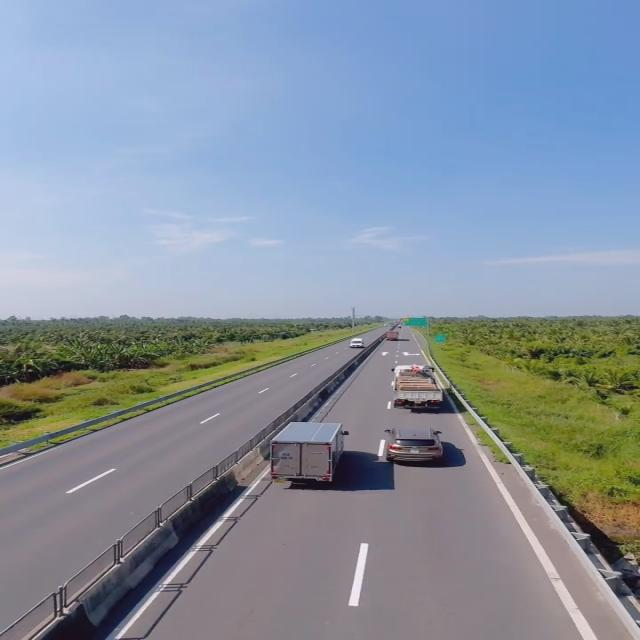car: (384, 423, 446, 465)
truck: (269, 422, 348, 490), (389, 362, 450, 414)
